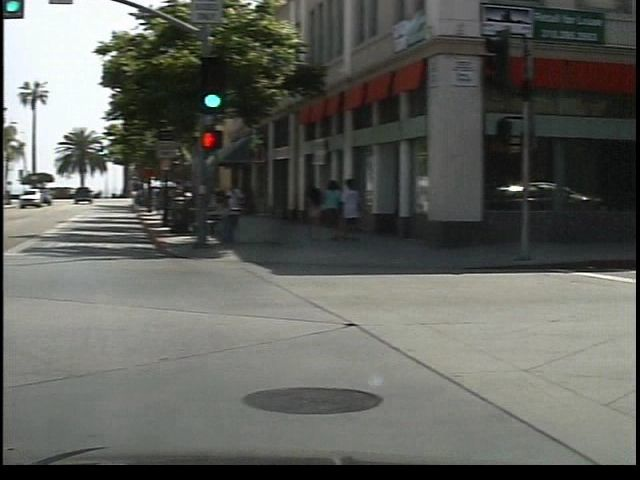person: (236, 174, 261, 238)
